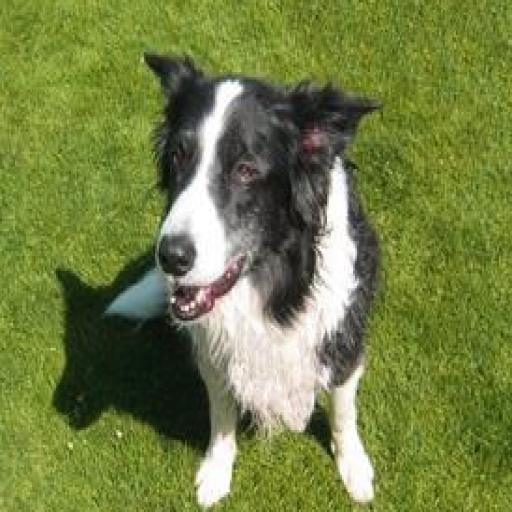dog_face: (144, 50, 359, 323)
